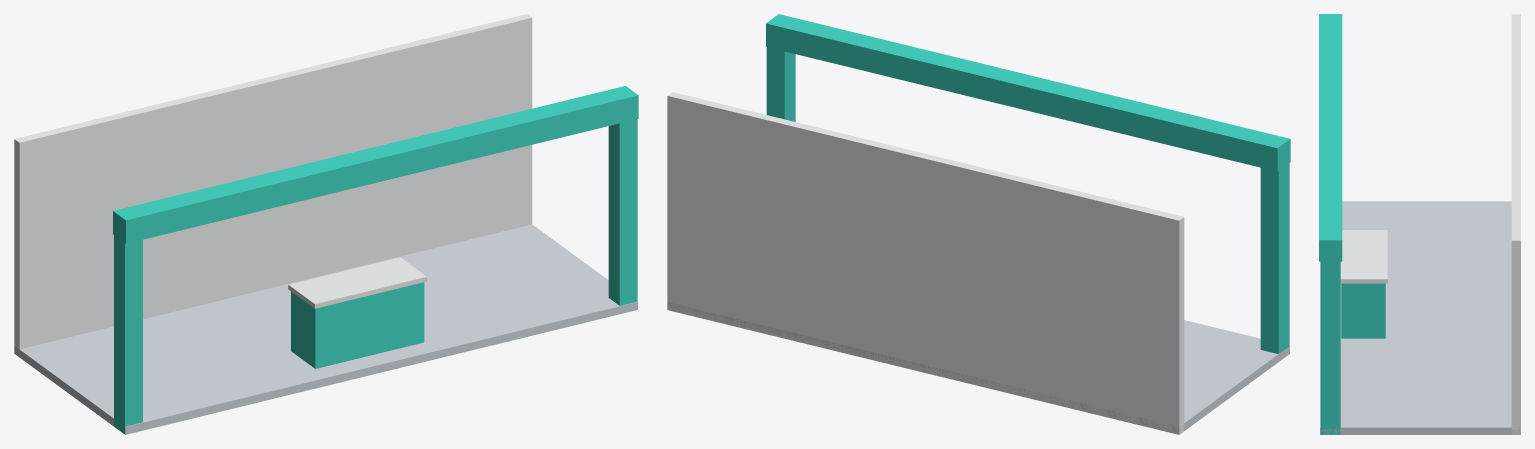
3 views of the same model, side by side, from view 1: azimuth 30°, elevation 25°; view 2: azimuth 150°, elevation 25°; view 3: azimuth 270°, elevation 25° (orthographic). The views are drawn at different scales.
Visible parts, largest first — view 1: Exhibition Booth Concept; view 2: Exhibition Booth Concept; view 3: Exhibition Booth Concept.
Boxes of the visible parts, <box> form: Exhibition Booth Concept: <box>14,14,638,434</box>; Exhibition Booth Concept: <box>667,14,1290,434</box>; Exhibition Booth Concept: <box>1319,14,1520,434</box>.
Bounding box in the file's own units: 8 × 3.2 × 3.01.
